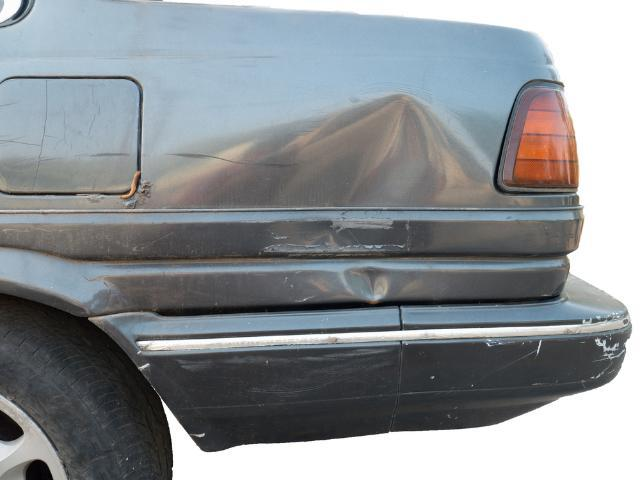dent: (160, 95, 495, 208), (342, 266, 390, 302)
scratch: (581, 309, 633, 363)
